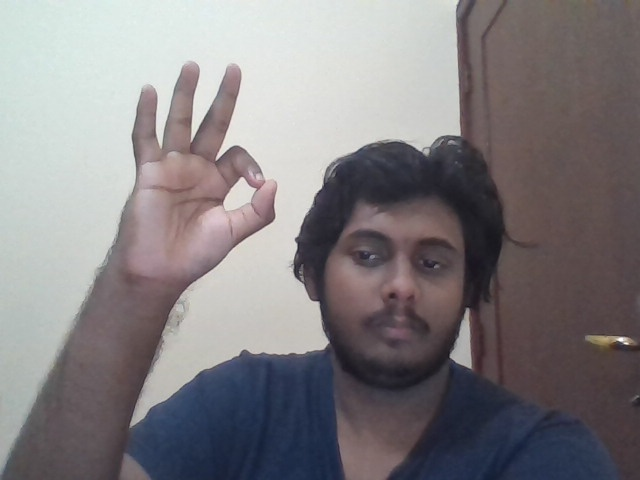ok: (119, 60, 276, 286)
